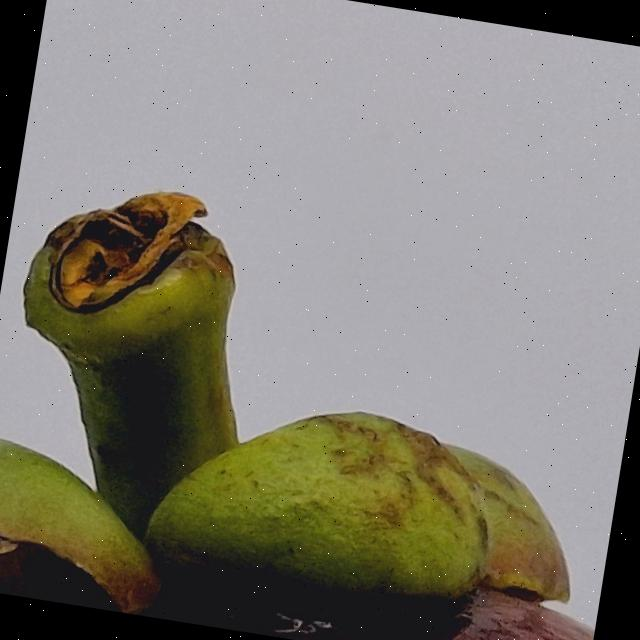mangosteen: (0, 132, 640, 640)
